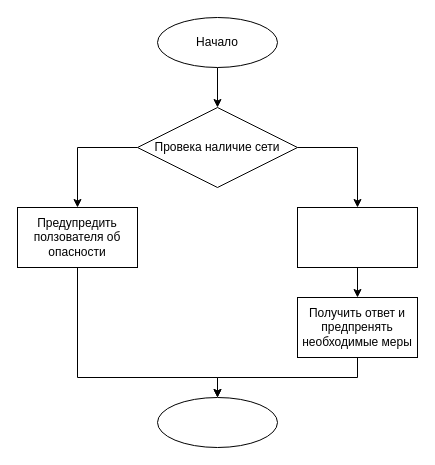
Image size: 435x465. Some labels were removed from this diagram. The centre of each missing label's shape, as x and y in pixels:
"Конец" belongs at point (217, 422).
"Отправить файл на проверку через API" belongs at point (357, 237).
